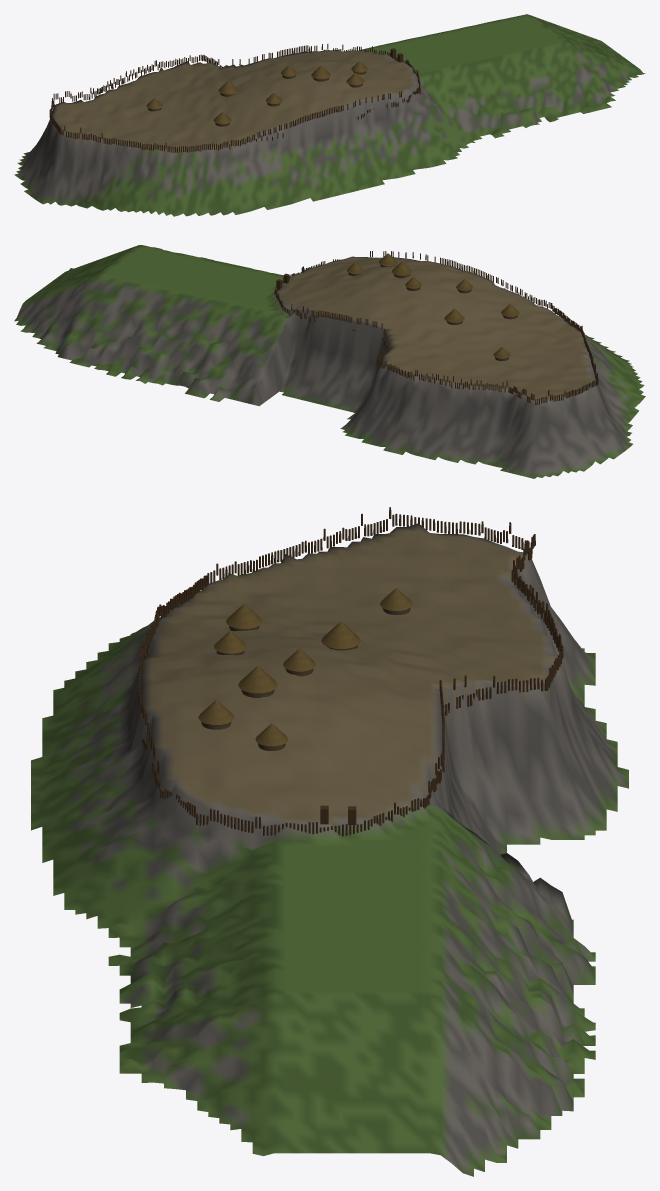
File: edinburgh-castle-b10.glb
3 views of the same model, one above another, from view 1: azimuth 30°, elevation 25°; view 2: azimuth 150°, elevation 25°; view 3: azimuth 270°, elevation 25° (orthographic). The views are drawn at different scales.
Bounding box in the file's own units: 48 × 7.8 × 21.6.
Materials: 4 (3 with a texture image).
